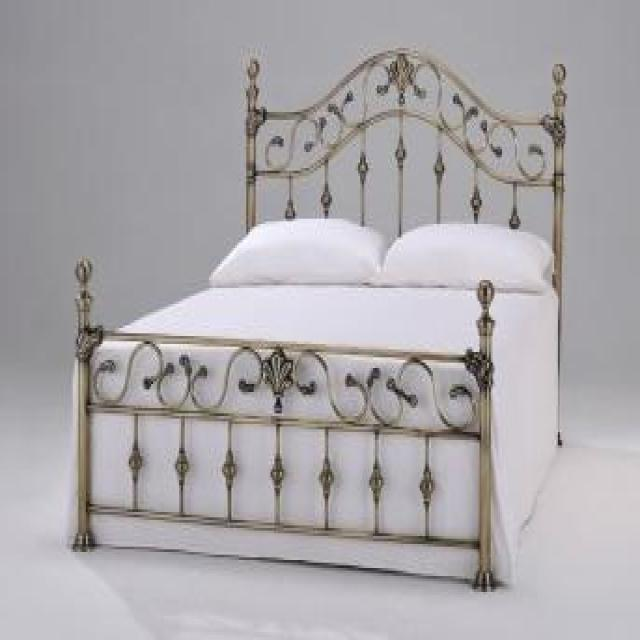bed: (69, 43, 567, 592)
